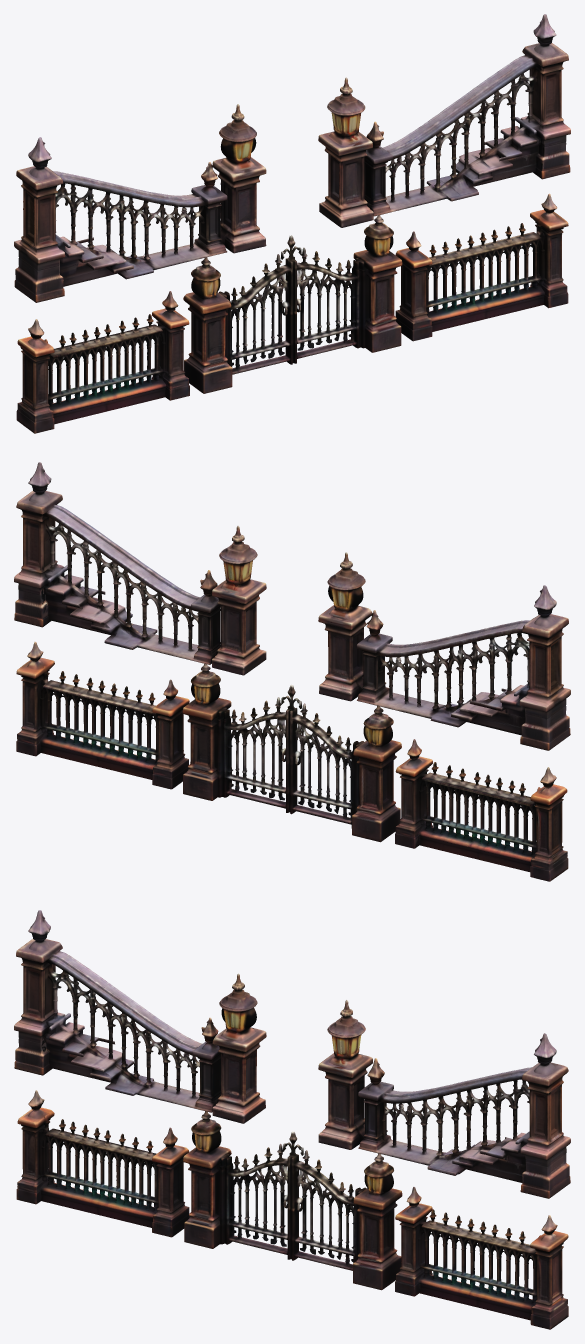
File: outside-railing.glb
The picture shows the model from 3 angles, top to bottom: view 1: azimuth 30°, elevation 25°; view 2: azimuth 150°, elevation 25°; view 3: azimuth 330°, elevation 25°; orthographic projection.
Visible parts, largest first — view 1: model; view 2: model; view 3: model.
Part boxes in pixels (<box>): model: <box>14,14,570,433</box>; model: <box>14,462,570,881</box>; model: <box>14,910,570,1329</box>.
Size of the model in its own units: 1.9 by 0.9746 by 0.1547.
Materials: 1 (1 with a texture image).
